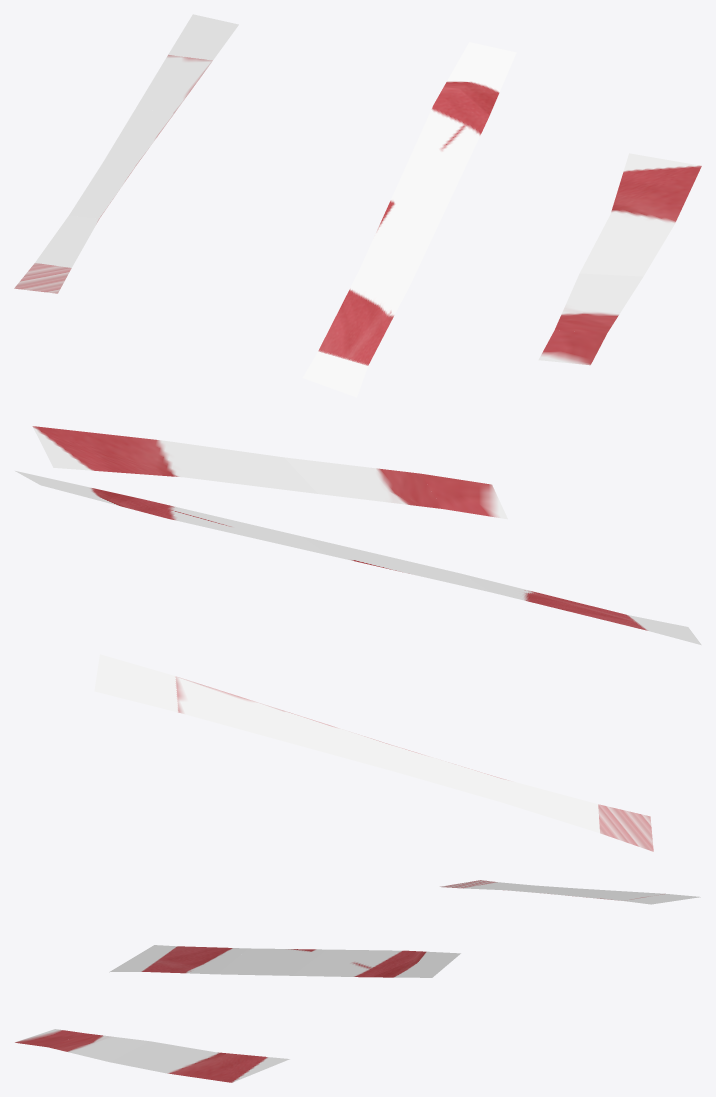
Rendered from Seam points aponevroz.FBX.
3 views of the same model, one above another, from view 1: azimuth 30°, elevation 25°; view 2: azimuth 150°, elevation 25°; view 3: azimuth 270°, elevation 25° (orthographic). The views are drawn at different scales.
Parts seen in each view (by area): view 1: point 10, point 9, point 8, point 15, point 14, point 11, point 13, point 5, point 4, point 6, point 3, point 2 (+3 smaller); view 2: point 15, point 13, point 14, point 5, point 4, point 6, point 3, point 2, point 10, point 12, point 9, point 8 (+3 smaller); view 3: point 10, point 9, point 15, point 8, point 14, point 11, point 13, point 7, point 12, point 5, point 6, point 4 (+2 smaller).
Boxes of the visible parts, box(x1,y1,x2,y2) form: point 10: box(396, 105, 487, 199); point 9: box(358, 188, 449, 280); point 8: box(318, 272, 411, 365); point 15: box(610, 153, 701, 224); point 14: box(579, 214, 674, 276); point 11: box(433, 42, 516, 118); point 13: box(554, 273, 642, 332); point 5: box(136, 55, 212, 113); point 4: box(103, 108, 174, 165); point 6: box(168, 14, 238, 60); point 3: box(69, 162, 135, 218); point 2: box(35, 215, 99, 267); point 15: box(32, 426, 183, 477); point 13: box(284, 457, 442, 508); point 14: box(164, 440, 317, 493); point 5: box(176, 676, 286, 741); point 4: box(284, 710, 394, 771); point 6: box(94, 654, 178, 712); point 3: box(392, 745, 502, 802); point 2: box(500, 778, 599, 833); point 10: box(143, 499, 328, 555); point 12: box(421, 473, 507, 519); point 9: box(302, 536, 491, 592); point 8: box(460, 573, 647, 630); point 10: box(293, 949, 406, 977); point 9: box(218, 948, 326, 975); point 15: box(165, 1052, 289, 1082); point 8: box(141, 946, 248, 974); point 14: box(110, 1041, 214, 1072); point 11: box(369, 950, 460, 977); point 13: box(48, 1033, 149, 1062); point 7: box(109, 945, 176, 972); point 12: box(15, 1029, 85, 1047); point 5: box(585, 891, 665, 900); point 6: box(624, 894, 700, 904); point 4: box(546, 888, 621, 897).
Bounding box in the file's own units: 33.01 × 8.84 × 34.44.
